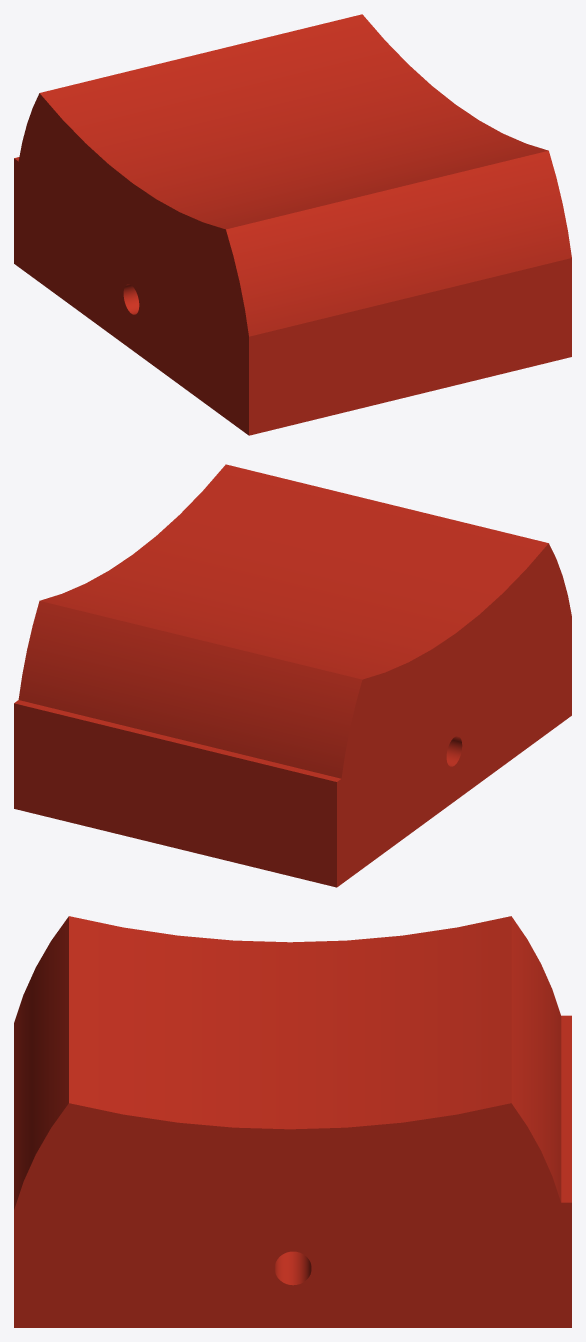
Rendered from bouton3a1.gltf.
The picture shows the model from 3 angles, top to bottom: view 1: azimuth 30°, elevation 25°; view 2: azimuth 150°, elevation 25°; view 3: azimuth 270°, elevation 25°; orthographic projection. The views are drawn at different scales.
Visible parts, largest first — view 1: Body1.001; view 2: Body1.001; view 3: Body1.001.
Boxes of the visible parts, box(x1,y1,x2,y2) form: Body1.001: box(14, 14, 571, 435); Body1.001: box(14, 464, 571, 887); Body1.001: box(14, 916, 571, 1327).
Bounding box in the file's own units: 0.0178 × 0.01 × 0.0225.
